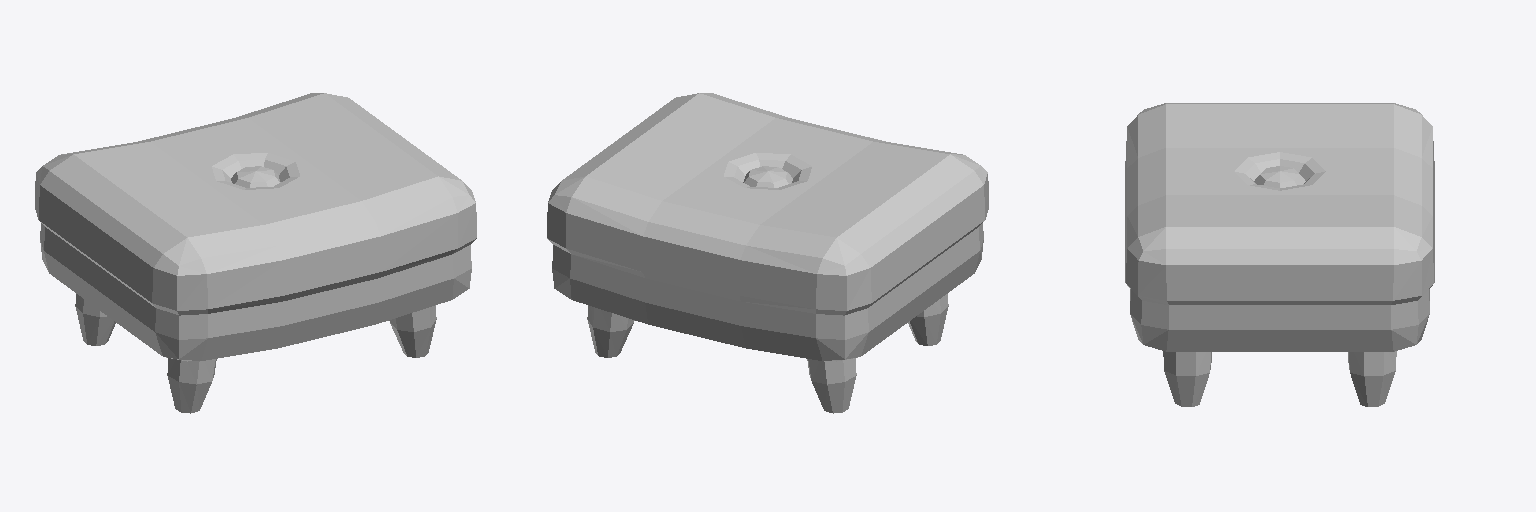
File: footstool_green.obj
3 views of the same model, side by side, from view 1: azimuth 30°, elevation 25°; view 2: azimuth 150°, elevation 25°; view 3: azimuth 270°, elevation 25° (orthographic).
Parts seen in each view (by area): view 1: footstool_green; view 2: footstool_green; view 3: footstool_green.
Boxes of the visible parts, x1,y1,x2,y2 form: footstool_green: [35, 93, 476, 413]; footstool_green: [547, 93, 988, 413]; footstool_green: [1125, 103, 1434, 406].
Bounding box in the file's own units: 0.8249 × 0.4445 × 0.688.